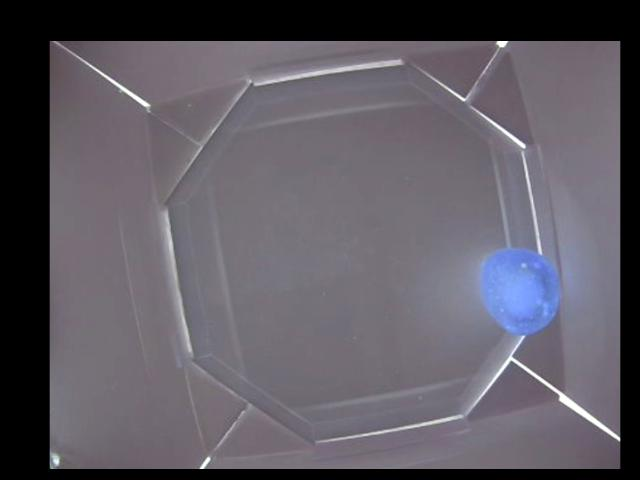Potato: (481, 244, 561, 337)
